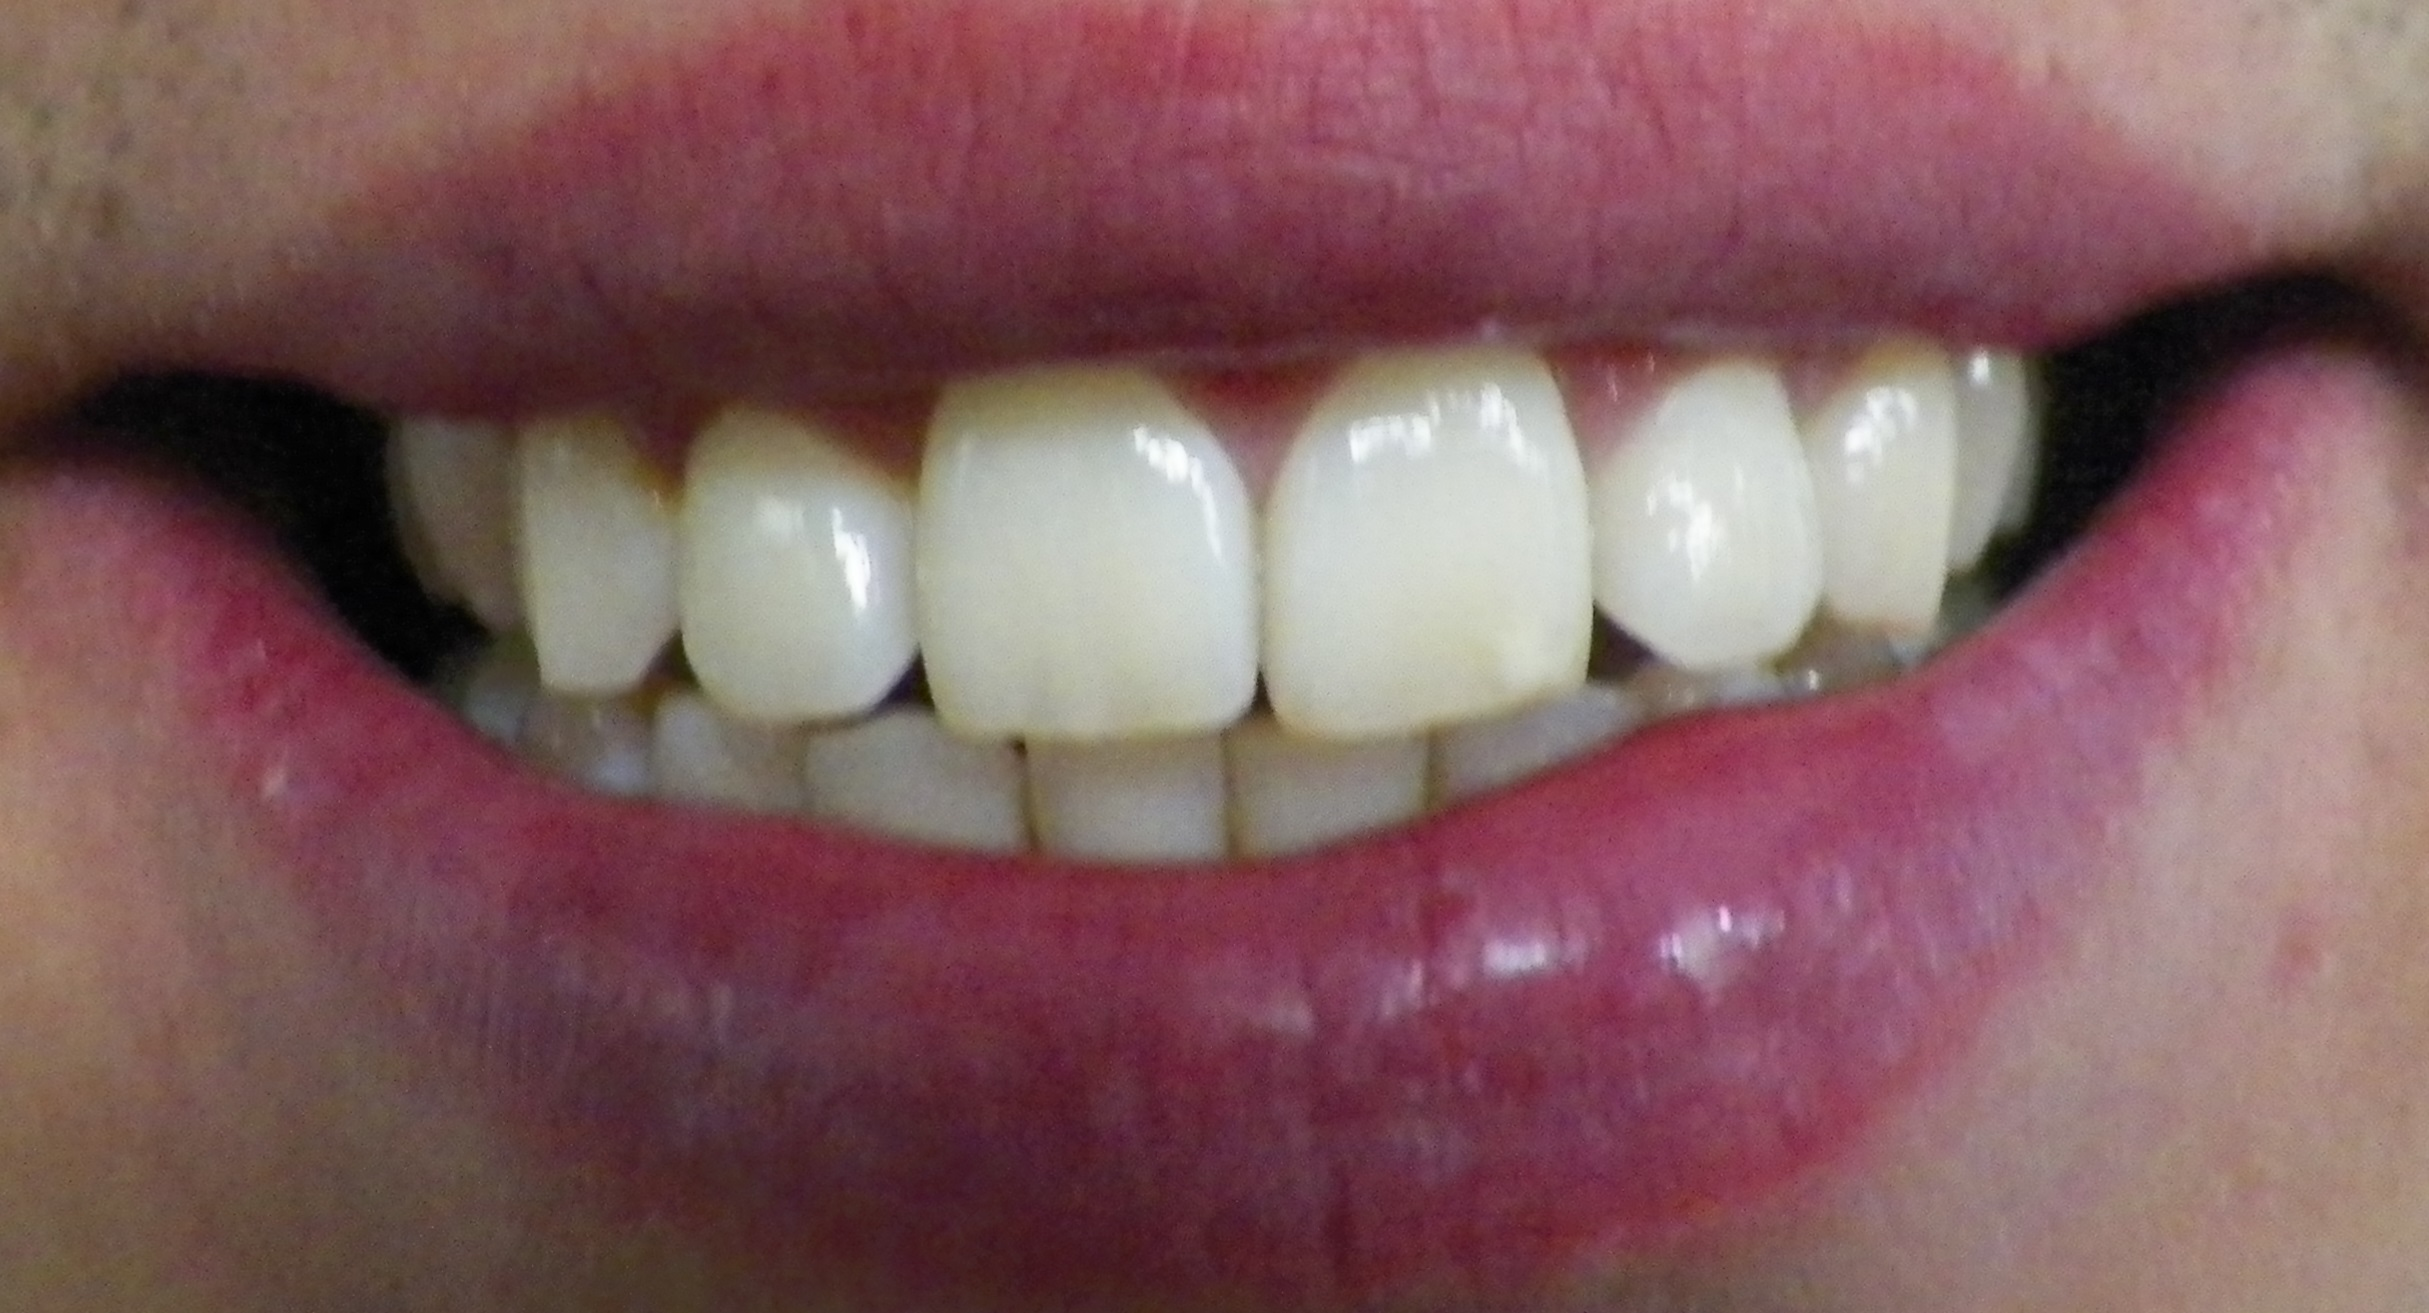boca: (377, 344, 2141, 914)
